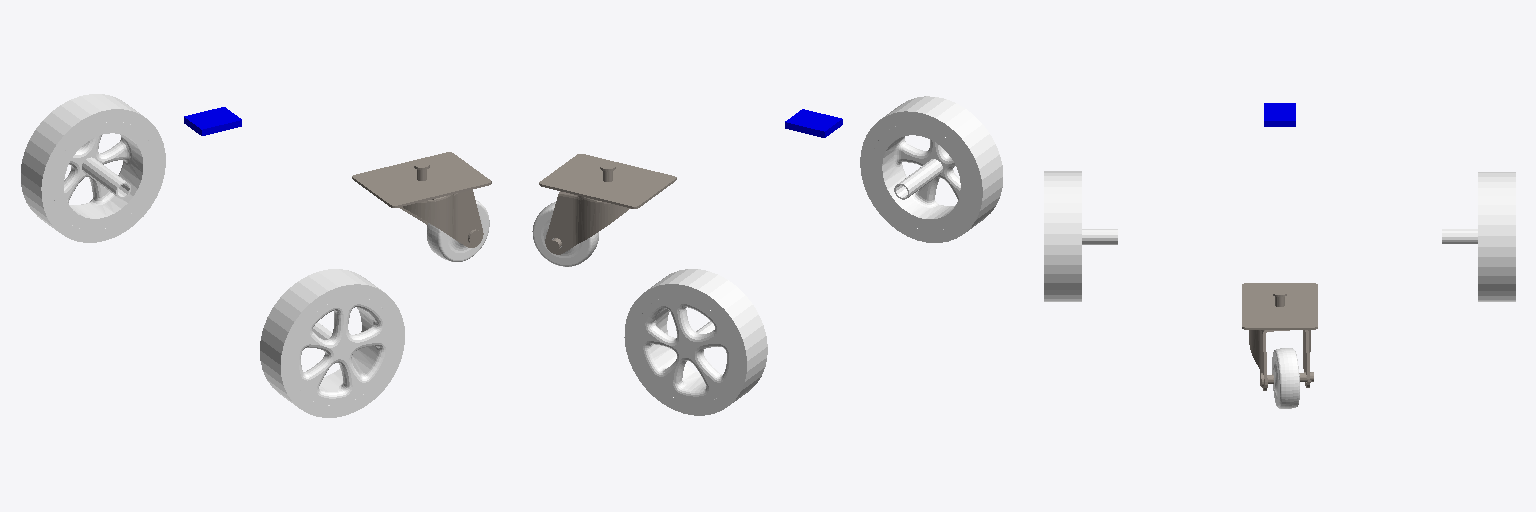
robot.urdf — stackBot:
<?xml version="1.0" encoding="utf-8"?>
<!-- This URDF was automatically created by SolidWorks to URDF Exporter! Originally created by [author] ([email redacted]) 
     Commit Version: 1.6.0-1-g15f4949  Build Version: 1.6.7594.29634
     For more information, please see http://wiki.ros.org/sw_urdf_exporter -->
<robot name="stackBot">
  <link name="base_footprint"/>
  <joint name="base_fxd" type="fixed">
  	<parent link="base_footprint"/>
  	<child link="base_link"/>
  </joint>
  <gazebo>
        <plugin name="gazebo_ros_control" filename="libgazebo_ros_control.so">
        </plugin>
  </gazebo>
  <link
    name="base_link">
    <inertial>
      <origin
        xyz="0.019327 -2.1188E-05 0.038505"
        rpy="0 0 0" />
      <mass
        value="1.043" />
      <inertia
        ixx="0.0011416"
        ixy="-3.7038E-08"
        ixz="4.9104E-09"
        iyy="0.0025437"
        iyz="-5.6302E-10"
        izz="0.0036174" />
    </inertial>
    <visual>
      <origin
        xyz="0 0 0"
        rpy="0 0 0" />
      <geometry>
        <mesh
          filename="package://stackbot_description/meshes/base_link.STL" />
      </geometry>
      <material
        name="">
        <color
          rgba="1 1 1 0.3" />
      </material>
    </visual>
    <collision>
      <origin
        xyz="0 0 0"
        rpy="0 0 0" />
      <geometry>
        <mesh
          filename="package://stackbot_description/meshes/base_link.STL" />
      </geometry>
    </collision>
  </link>
  <gazebo reference="base_link">
        <kp>100000.0</kp>
        <kd>100000.0</kd>
        <mu1>10.0</mu1>
        <mu2>10.0</mu2>
        <material>Gazebo/GreyTransparent</material>
  </gazebo>
  <link name="imu_link">
 	<inertial>
 		<origin xyz="0 0 0" rpy="0 0 0"/>
 		<mass value="0.0021"/>
 		<inertia ixx="4.897375000000001e-08" ixy="0.0" ixz="0.0" iyy="8.055775e-08" iyz="0.0" izz="1.2572000000000002e-07"/>
 	</inertial>
 	<visual>
 		<origin xyz="0 0 0" rpy="0 0 0"/>
 		<geometry>
 			<box size="0.0212 0.0164 0.0033"/>
 		</geometry>
 		<material name="">
 				<color rgba="0 0 1 0.3"/>
 		</material>
 	</visual>
 	<collision>
 		<origin xyz="0 0 0" rpy="0 0 0"/>
 		<geometry>
 			<box size="0.0212 0.0164 0.0033"/>
 		</geometry>
 	</collision>
  </link>
  <gazebo reference="imu_link">
        <kp>600000.0</kp>
        <kd>3.0</kd>
        <mu1>10.0</mu1>
        <mu2>10.0</mu2>
        <material>Gazebo/BlueTransparentOverlay</material>
  </gazebo>
  <joint name="imu_joint" type="fixed">
  	<origin xyz="0 0 0.048" rpy="0 0 0"/>
  	<parent link="base_link"/>
  	<child link="imu_link"/>
  </joint>
  <link
    name="leftWheel_Link">
    <inertial>
      <origin
        xyz="-2.2699E-06 1.496E-05 0.0002801"
        rpy="0 0 0" />
      <mass
        value="0.058225" />
      <inertia
        ixx="2.1668E-05"
        ixy="-7.1463E-09"
        ixz="7.3731E-10"
        iyy="2.1687E-05"
        iyz="-5.0354E-09"
        izz="3.9449E-05" />
    </inertial>
    <visual>
      <origin
        xyz="0 0 0"
        rpy="0 0 0" />
      <geometry>
        <mesh
          filename="package://stackbot_description/meshes/leftWheel_Link.STL" />
      </geometry>
      <material
        name="">
        <color
          rgba="1 1 1 0.85" />
      </material>
    </visual>
    <collision>
      <origin
        xyz="0 0 0"
        rpy="0 0 0" />
      <geometry>
        <mesh
          filename="package://stackbot_description/meshes/leftWheel_Link.STL" />
      </geometry>
    </collision>
  </link>
  <gazebo reference="leftWheel_Link">
        <kp>600000.0</kp>
        <kd>3.0</kd>
        <mu1>10000000.0</mu1>
        <mu2>10000000.0</mu2>
        <material>Gazebo/FlatBlack</material>
  </gazebo>
  <joint
    name="leftWheel_Joint"
    type="continuous">
    <origin
      xyz="-0.0001292 0.108 -0.018932"
      rpy="-1.5708 0 0" />
    <parent
      link="base_link" />
    <child
      link="leftWheel_Link" />
    <axis
      xyz="0 0 1" />
    <dynamics damping="1.5" friction="0.125"/>
  </joint>
  <transmission name="trans1">
        <type>transmission_interface/SimpleTransmission</type>
        <joint name="leftWheel_Joint">
            <hardwareInterface>hardware_interface/VelocityJointInterface</hardwareInterface>
        </joint>
        <actuator name="motor1">
            <hardwareInterface>hardware_interface/VelocityJointInterface</hardwareInterface>
            <mechanicalReduction>1</mechanicalReduction>
        </actuator>
  </transmission>
  <link
    name="rightWheel_link">
    <inertial>
      <origin
        xyz="-3.7028E-06 -1.4671E-05 0.0002801"
        rpy="0 0 0" />
      <mass
        value="0.058225" />
      <inertia
        ixx="2.1666E-05"
        ixy="1.6197E-09"
        ixz="1.2709E-09"
        iyy="2.1689E-05"
        iyz="4.9278E-09"
        izz="3.9449E-05" />
    </inertial>
    <visual>
      <origin
        xyz="0 0 0"
        rpy="0 0 0" />
      <geometry>
        <mesh
          filename="package://stackbot_description/meshes/rightWheel_link.STL" />
      </geometry>
      <material
        name="">
        <color
          rgba="1 1 1 0.85" />
      </material>
    </visual>
    <collision>
      <origin
        xyz="0 0 0"
        rpy="0 0 0" />
      <geometry>
        <mesh
          filename="package://stackbot_description/meshes/rightWheel_link.STL" />
      </geometry>
    </collision>
  </link>
  <gazebo reference="rightWheel_link">
        <kp>600000.0</kp>
        <kd>3.0</kd>
        <mu1>10000000.0</mu1>
        <mu2>10000000.0</mu2>
        <material>Gazebo/FlatBlack</material>
  </gazebo>
  <joint
    name="rightWheel_joint"
    type="continuous">
    <origin
      xyz="-0.00013096 -0.108 -0.018932"
      rpy="1.5708 0 0" />
    <parent
      link="base_link" />
    <child
      link="rightWheel_link" />
    <axis
      xyz="0 0 -1" />
    <dynamics damping="1.5" friction="0.125"/>
  </joint>
  <transmission name="trans2">
	<type>transmission_interface/SimpleTransmission</type>
	<joint name="rightWheel_joint">
		<hardwareInterface>hardware_interface/VelocityJointInterface</hardwareInterface>
	</joint>
	<actuator name="motor2">
		<hardwareInterface>hardware_interface/VelocityJointInterface</hardwareInterface>
		<mechanicalReduction>1</mechanicalReduction>
	</actuator>
  </transmission>
  <gazebo>
        <plugin name="gazebo_ros_imu_controller" filename="libgazebo_ros_imu.so">
            <robotNamespace>/stackBot</robotNamespace>
            <topicName>imu</topicName>
            <serviceName>imu/service</serviceName>
            <bodyName>imu_link</bodyName>
            <frameName>imu_link</frameName>
            <gaussianNoise>0</gaussianNoise>
            <rpyOffsets>0 0 0</rpyOffsets>
            <updateRate>10.0</updateRate>
            <alwaysOn>true</alwaysOn>
            <gaussianNoise>0</gaussianNoise>
            </plugin>
  </gazebo>  
  <link
    name="castorLink">
    <inertial>
      <origin
        xyz="0.0037160741706464 0.000538631212527771 -0.0145841012705388"
        rpy="0 0 0" />
      <mass
        value="0.0477277680794552" />
      <inertia
        ixx="7.73118467973946E-06"
        ixy="1.06561550753787E-08"
        ixz="1.40251589222538E-06"
        iyy="9.61400818908263E-06"
        iyz="2.03849190289507E-07"
        izz="1.27542339915242E-05" />
    </inertial>
    <visual>
      <origin
        xyz="0 0 0"
        rpy="0 0 0" />
      <geometry>
        <mesh
          filename="package://stackbot_description/meshes/castorLink.STL" />
      </geometry>
      <material
        name="">
        <color
          rgba="0.650980392156863 0.619607843137255 0.588235294117647 1" />
      </material>
    </visual>
    <collision>
      <origin
        xyz="0 0 0"
        rpy="0 0 0" />
      <geometry>
        <mesh
          filename="package://stackbot_description/meshes/castorLink.STL" />
      </geometry>
    </collision>
  </link>
  <gazebo reference="castorLink">
        <kp>600000.0</kp>
        <kd>3.0</kd>
        <mu1>0.4</mu1>
        <mu2>0.1</mu2>
        <material>Gazebo/Grey</material>
  </gazebo>
  <joint
    name="castorLink_Joint"
    type="fixed">
    <origin
      xyz="0.10885 0 0.0012"
      rpy="0 0 0" />
    <parent
      link="base_link" />
    <child
      link="castorLink" />
    <!--<axis
      xyz="0 0 -1" />-->
  </joint>
  <!--<transmission name="trans3">
	<type>transmission_interface/SimpleTransmission</type>
	<joint name="castorLink_Joint">
		<hardwareInterface>hardware_interface/VelocityJointInterface</hardwareInterface>
	</joint>
	<actuator name="motor3">
		<hardwareInterface>hardware_interface/VelocityJointInterface</hardwareInterface>
		<mechanicalReduction>1</mechanicalReduction>
	</actuator>
  </transmission>-->
  <link
    name="castorWheel">
    <inertial>
      <origin
        xyz="0.012186 -0.025419 -0.0017692"
        rpy="0 0 0" />
      <mass
        value="0.033173" />
      <inertia
        ixx="1.3903E-05"
        ixy="3.1794E-06"
        ixz="-1.3336E-07"
        iyy="1.3109E-05"
        iyz="-4.6142E-07"
        izz="1.3004E-05" />
    </inertial>
    <visual>
      <origin
        xyz="0 0 0"
        rpy="0 0 0" />
      <geometry>
        <mesh
          filename="package://stackbot_description/meshes/castorWheel.STL" />
      </geometry>
      <material
        name="">
        <color
          rgba="1 1 1 0.85" />
      </material>
    </visual>
    <collision>
      <origin
        xyz="0 0 0"
        rpy="0 0 0" />
      <geometry>
        <mesh
          filename="package://stackbot_description/meshes/castorWheel.STL" />
      </geometry>
    </collision>
  </link>
  <gazebo reference="castorWheel">
        <kp>600000.0</kp>
        <kd>3.0</kd>
        <mu1>10000000.0</mu1>
        <mu2>10000000.0</mu2>
        <material>Gazebo/White</material>
  </gazebo>
  <joint
    name="castorWheel_joint"
    type="fixed">
    <origin
      xyz="0.020613 0.0029923 -0.037824"
      rpy="1.5708 0 0" />
    <parent
      link="castorLink" />
    <child
      link="castorWheel" />
    <!--<axis
      xyz="0.14366 0 0.98963" />-->
  </joint>
  <!--<transmission name="trans4">
	<type>transmission_interface/SimpleTransmission</type>
	<joint name="castorWheel_joint">
		<hardwareInterface>hardware_interface/VelocityJointInterface</hardwareInterface>
	</joint>
	<actuator name="motor4">
		<hardwareInterface>hardware_interface/VelocityJointInterface</hardwareInterface>
		<mechanicalReduction>1</mechanicalReduction>
	</actuator>
  </transmission>-->
  <link
    name="rplidar_link">
    <inertial>
      <origin
        xyz="0.011763 -0.00073689 -0.017188"
        rpy="0 0 0" />
      <mass
        value="0.078925" />
      <inertia
        ixx="2.1052E-05"
        ixy="-2.5865E-08"
        ixz="-4.4884E-07"
        iyy="2.503E-05"
        iyz="1.5472E-08"
        izz="4.3747E-05" />
    </inertial>
    <visual>
      <origin
        xyz="0 0 0"
        rpy="0 0 0" />
      <geometry>
        <mesh
          filename="package://stackbot_description/meshes/rplidar_link.STL" />
      </geometry>
      <material
        name="">
        <color
          rgba="0.75294 0.75294 0.75294 1" />
      </material>
    </visual>
    <collision>
      <origin
        xyz="0 0 0"
        rpy="0 0 0" />
      <geometry>
        <mesh
          filename="package://stackbot_description/meshes/rplidar_link.STL" />
      </geometry>
    </collision>
  </link>
  <gazebo reference="rplidar_link">
        <kp>100000.0</kp>
        <kd>100000.0</kd>
        <mu1>10.0</mu1>
        <mu2>10.0</mu2>
        <material>Gazebo/Black</material>
  </gazebo>
  <joint
    name="rplidar_joint"
    type="fixed">
    <origin
      xyz="-0.00013 0 0.19235"
      rpy="0 0 0" />
    <parent
      link="base_link" />
    <child
      link="rplidar_link" />
    <axis
      xyz="0 0 0" />
  </joint>
  <gazebo reference="rplidar_link">
    <sensor type="ray" name="head_rplidar_sensor">
      <pose>0 0 0 0 0 0</pose>
      <visualize>false</visualize>
      <update_rate>40</update_rate>
      <ray>
        <scan>
          <horizontal>
            <samples>720</samples>
            <resolution>1</resolution>
            <min_angle>-3.14159265</min_angle>
            <max_angle>3.14159265</max_angle>
          </horizontal>
        </scan>
        <range>
          <min>0.2</min>
          <max>12.0</max>
          <resolution>0.01</resolution>
        </range>
        <noise>
          <type>gaussian</type>
          <mean>0.0</mean>
          <stddev>0.01</stddev>
        </noise>
      </ray>
      <plugin name="gazebo_ros_head_rplidar_controller" filename="libgazebo_ros_laser.so">
        <topicName>scan</topicName>
        <frameName>rplidar_link</frameName>
      </plugin>
    </sensor>
  </gazebo> 
</robot>

--- Facts derived from the render (not from the file) ---
3 views of the same robot in one strip: view 1: azimuth 30°, elevation 25°; view 2: azimuth 150°, elevation 25°; view 3: azimuth 270°, elevation 25° (orthographic).
Robot: stackBot — 8 links, 7 joints (2 continuous, 5 fixed); root link base_footprint; default pose: every joint at zero.
Links seen in each view (by area): view 1: leftWheel_Link, rightWheel_link, castorLink, castorWheel, imu_link; view 2: rightWheel_link, leftWheel_Link, castorLink, castorWheel, imu_link; view 3: rightWheel_link, leftWheel_Link, castorLink, castorWheel, imu_link.
Link boxes in pixels (left/top/right/bottom): leftWheel_Link: left=21, top=94, right=165, bottom=242; rightWheel_link: left=260, top=269, right=404, bottom=417; castorLink: left=352, top=152, right=491, bottom=247; castorWheel: left=427, top=200, right=489, bottom=261; imu_link: left=184, top=107, right=241, bottom=135; rightWheel_link: left=860, top=96, right=1002, bottom=242; leftWheel_Link: left=624, top=269, right=767, bottom=415; castorLink: left=539, top=154, right=676, bottom=254; castorWheel: left=532, top=202, right=598, bottom=266; imu_link: left=785, top=109, right=842, bottom=137; rightWheel_link: left=1044, top=171, right=1117, bottom=301; leftWheel_Link: left=1442, top=172, right=1515, bottom=301; castorLink: left=1242, top=283, right=1317, bottom=390; castorWheel: left=1272, top=348, right=1299, bottom=408; imu_link: left=1264, top=103, right=1295, bottom=126.
Size in the robot's own frame: 0.1773 by 0.2349 by 0.1015 metres.
4 mesh visuals loaded from 6 distinct referenced files (4 binary STL); not drawn: 2 (reference not matched to a file when rendering).
